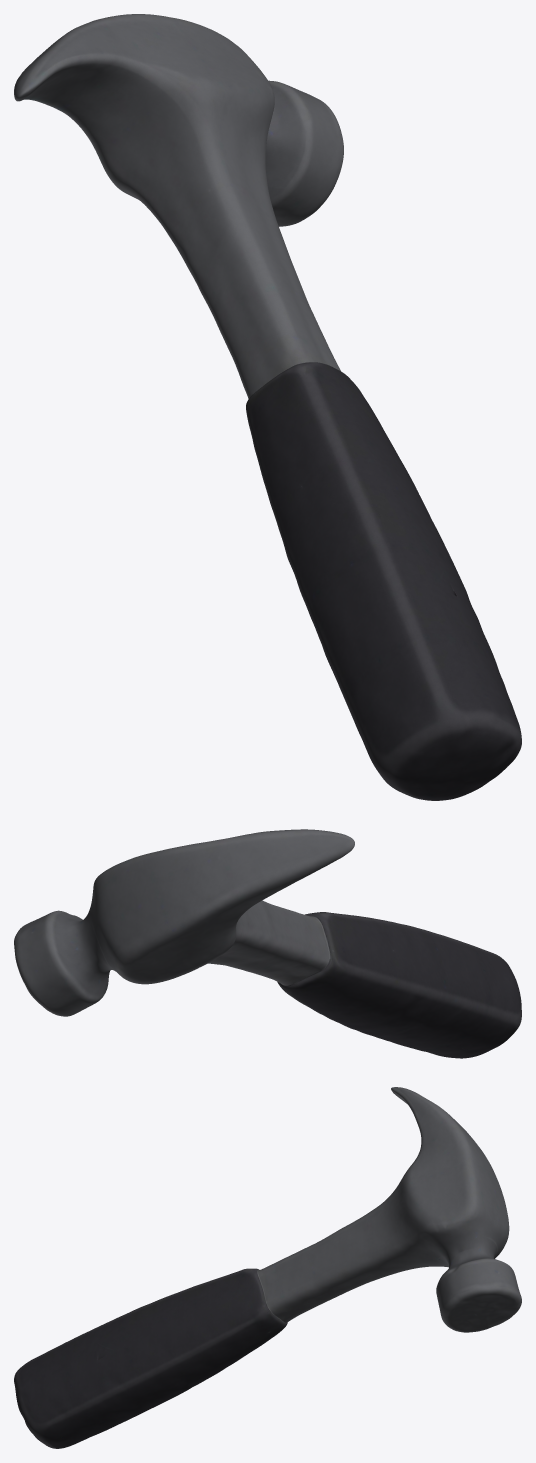
Rendered from XcodeHammer.glb.
The picture shows the model from 3 angles, top to bottom: view 1: azimuth 30°, elevation 25°; view 2: azimuth 150°, elevation 25°; view 3: azimuth 270°, elevation 25°; orthographic projection. The views are drawn at different scales.
Bounding box in the file's own units: 0.5127 × 0.7046 × 1.
1 material, 1 textured.
